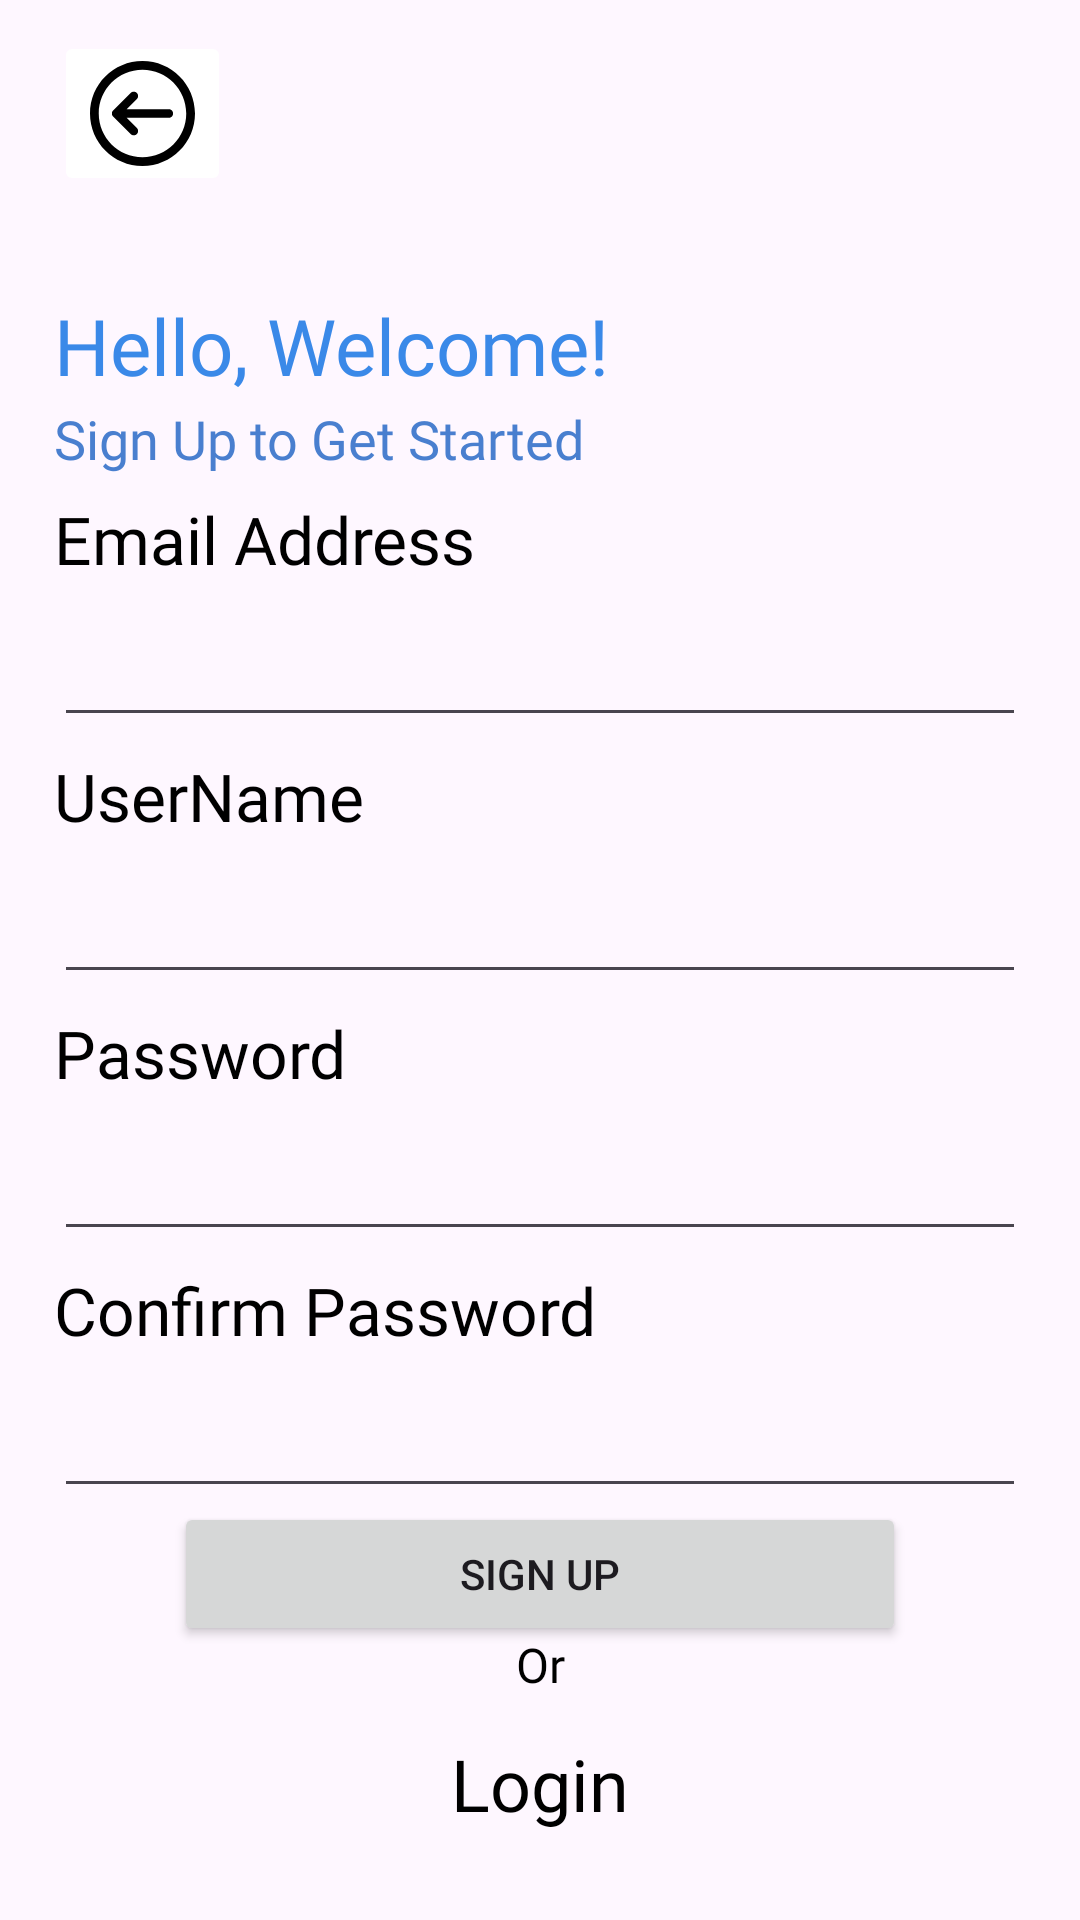

Icon click points for this 1080*1920 phone screenshot, format point (x, y):
login back return: point (142, 113)
